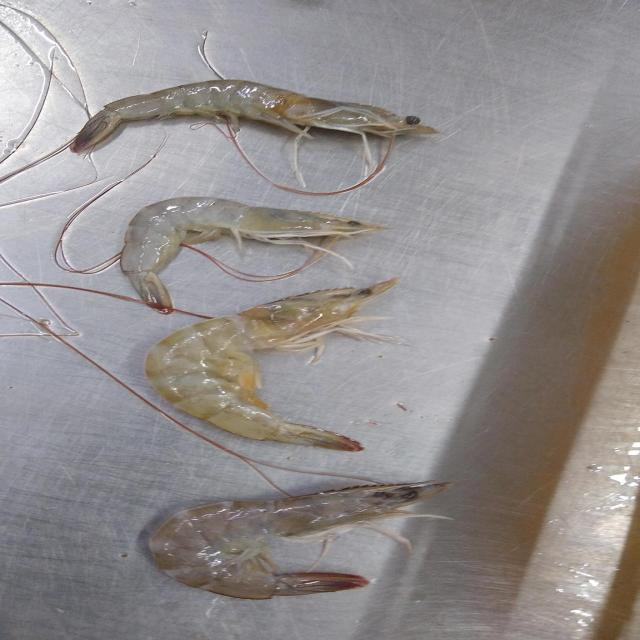shrimp: (144, 278, 400, 451), (149, 481, 451, 599), (120, 196, 384, 308), (71, 80, 438, 155)
